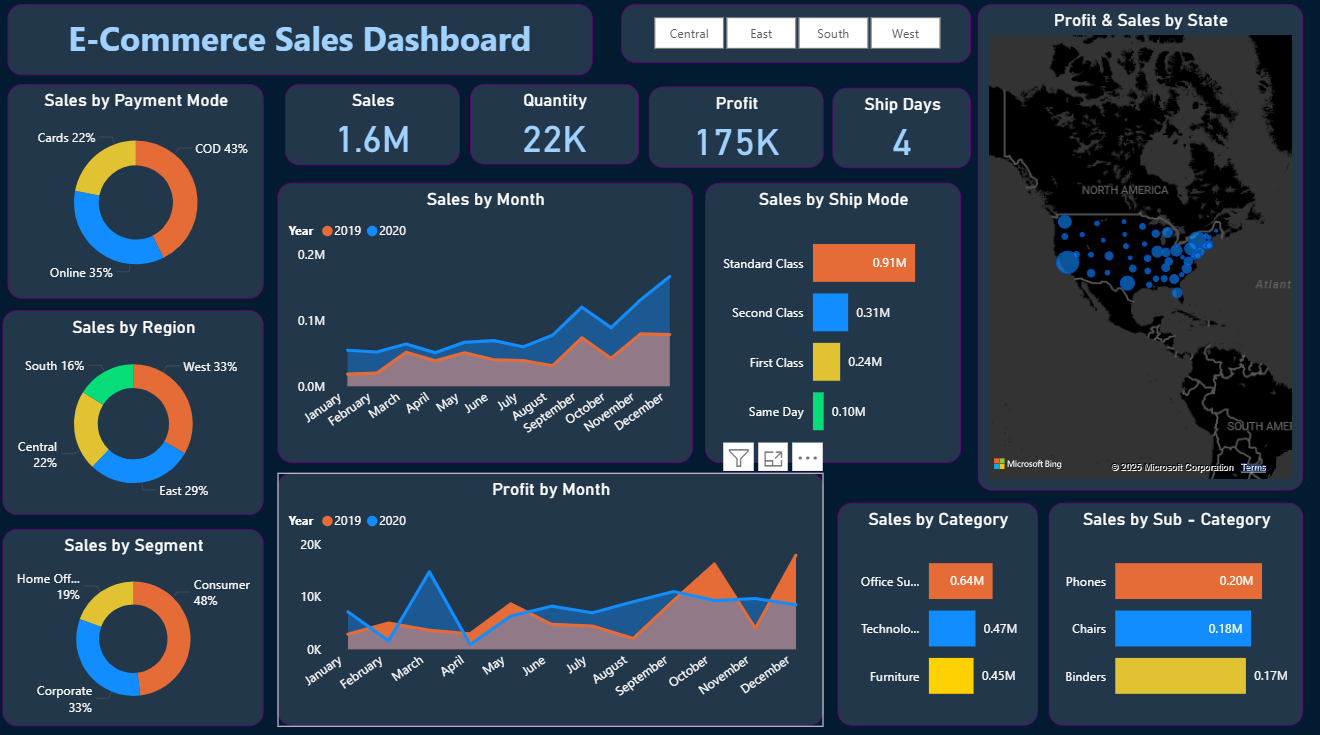

The page's visual inventory and layout, read from the dashboard file:
{"tool":"powerbi","page":{"name":"Page 1","canvas":[1280,720],"ordinal":0},"visuals":[{"type":"clusteredBarChart","title":"Sales by Category","fields":{"Category":["SuperStore_Sales_Dataset.Category"],"Y":["Sum(SuperStore_Sales_Dataset.Sales)"]},"box":[813.7,491.3,193.5,215.4],"z":0},{"type":"clusteredBarChart","title":"Sales by Sub - Category","fields":{"Category":["SuperStore_Sales_Dataset.Sub-Category"],"Y":["Sum(SuperStore_Sales_Dataset.Sales)"]},"box":[1016.8,491.3,245.6,215.4],"z":1000},{"type":"clusteredBarChart","title":"Sales by Ship Mode","fields":{"Category":["SuperStore_Sales_Dataset.Ship Mode"],"Y":["Sum(SuperStore_Sales_Dataset.Sales)"]},"box":[684.7,182.5,247,270.3],"z":2000},{"type":"areaChart","title":"Sales by Month","fields":{"Y":["Sum(SuperStore_Sales_Dataset.Sales)"],"Category":["SuperStore_Sales_Dataset.Order Date.Variation.Date Hierarchy.Month"],"Series":["SuperStore_Sales_Dataset.Order Date.Variation.Date Hierarchy.Year"]},"box":[273.1,182.5,400.7,270.3],"z":3000},{"type":"areaChart","title":"Profit by Month","fields":{"Category":["SuperStore_Sales_Dataset.Order Date.Variation.Date Hierarchy.Month"],"Series":["SuperStore_Sales_Dataset.Order Date.Variation.Date Hierarchy.Year"],"Y":["Sum(SuperStore_Sales_Dataset.Profit)"]},"box":[273.1,462.4,526.9,244.3],"z":4000},{"type":"map","title":"Profit & Sales by State","fields":{"Category":["SuperStore_Sales_Dataset.State"],"Size":["Sum(SuperStore_Sales_Dataset.Sales)"]},"box":[948.2,9.6,314.2,469.3],"z":5000},{"type":"donutChart","title":"Sales by Segment","fields":{"Category":["SuperStore_Sales_Dataset.Segment"],"Y":["Sum(SuperStore_Sales_Dataset.Sales)"]},"box":[7.2,516.4,252.1,190.6],"z":6000},{"type":"donutChart","title":"Sales by Region","fields":{"Category":["SuperStore_Sales_Dataset.Region"],"Y":["Sum(SuperStore_Sales_Dataset.Sales)"]},"box":[7.2,305.2,252.1,197.9],"z":7000},{"type":"donutChart","title":"Sales by Payment Mode","fields":{"Category":["SuperStore_Sales_Dataset.Payment Mode"],"Y":["Sum(SuperStore_Sales_Dataset.Sales)"]},"box":[12.1,86.9,247.3,207.5],"z":8000},{"type":"slicer","fields":{"Values":["SuperStore_Sales_Dataset.Region"]},"box":[604.4,9.7,337.8,56.7],"z":9000},{"type":"textbox","box":[12.1,9.7,564.6,68.8],"z":10000},{"type":"card","title":"Sales","fields":{"Values":["Sum(SuperStore_Sales_Dataset.Sales)"]},"box":[279.9,86.4,168.8,78.2],"z":11000},{"type":"card","title":"Quantity","fields":{"Values":["Sum(SuperStore_Sales_Dataset.Quantity)"]},"box":[458.4,86.9,162.9,77.2],"z":12000},{"type":"card","title":"Profit","fields":{"Values":["Sum(SuperStore_Sales_Dataset.Profit)"]},"box":[631.2,89.2,168.8,78.2],"z":13000},{"type":"card","title":"Ship Days","fields":{"Values":["Avg(SuperStore_Sales_Dataset.AvgDelivery)"]},"box":[808.3,90.5,133.9,77.2],"z":14000}]}

Visuals, with their boxes in screenshot pixels (x1, y1, x2, y2), scaled from the page's 1280x720 canvas onto the 1320x735 screenshot:
"Sales by Category" clusteredBarChart: {"left": 839, "top": 502, "right": 1039, "bottom": 721}
"Sales by Sub - Category" clusteredBarChart: {"left": 1049, "top": 502, "right": 1302, "bottom": 721}
"Sales by Ship Mode" clusteredBarChart: {"left": 706, "top": 186, "right": 961, "bottom": 462}
"Sales by Month" areaChart: {"left": 282, "top": 186, "right": 695, "bottom": 462}
"Profit by Month" areaChart: {"left": 282, "top": 472, "right": 825, "bottom": 721}
"Profit & Sales by State" map: {"left": 978, "top": 10, "right": 1302, "bottom": 489}
"Sales by Segment" donutChart: {"left": 7, "top": 527, "right": 267, "bottom": 722}
"Sales by Region" donutChart: {"left": 7, "top": 312, "right": 267, "bottom": 514}
"Sales by Payment Mode" donutChart: {"left": 12, "top": 89, "right": 268, "bottom": 301}
slicer - SuperStore_Sales_Dataset.Region: {"left": 623, "top": 10, "right": 972, "bottom": 68}
textbox: {"left": 12, "top": 10, "right": 595, "bottom": 80}
"Sales" card: {"left": 289, "top": 88, "right": 463, "bottom": 168}
"Quantity" card: {"left": 473, "top": 89, "right": 641, "bottom": 168}
"Profit" card: {"left": 651, "top": 91, "right": 825, "bottom": 171}
"Ship Days" card: {"left": 834, "top": 92, "right": 972, "bottom": 171}
